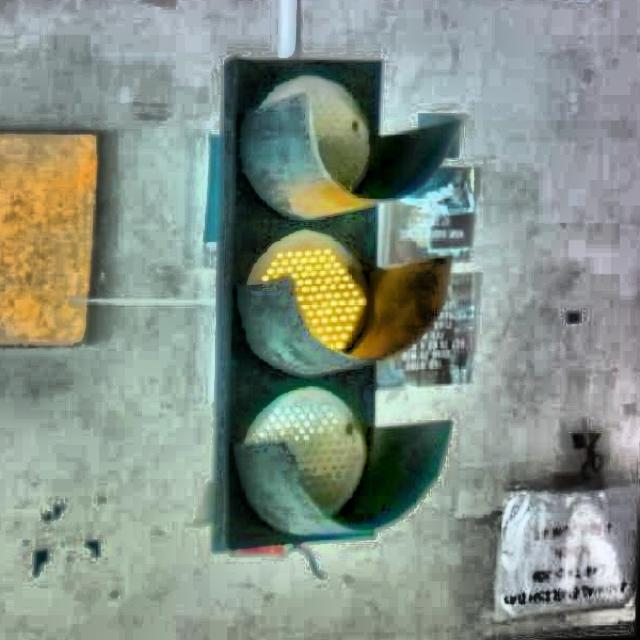yellow: (230, 59, 410, 535)
